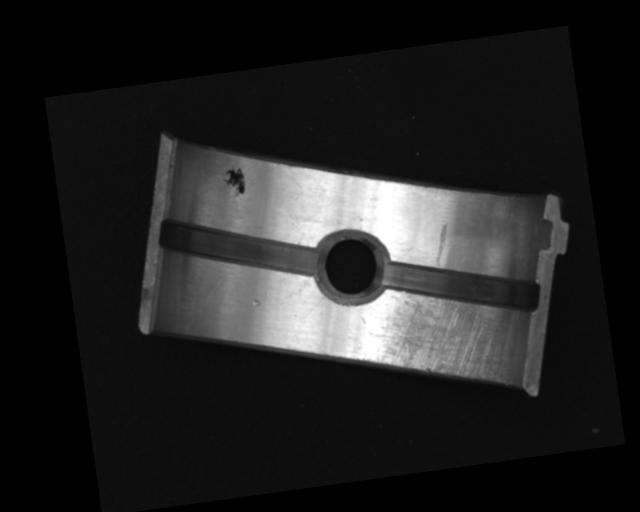blot: (219, 161, 247, 198)
bruise: (249, 298, 263, 307)
gap: (156, 197, 326, 297), (379, 241, 542, 331)
hole: (310, 229, 392, 308)
nick: (430, 221, 455, 269), (299, 294, 331, 319)
scratch: (363, 277, 525, 404)
